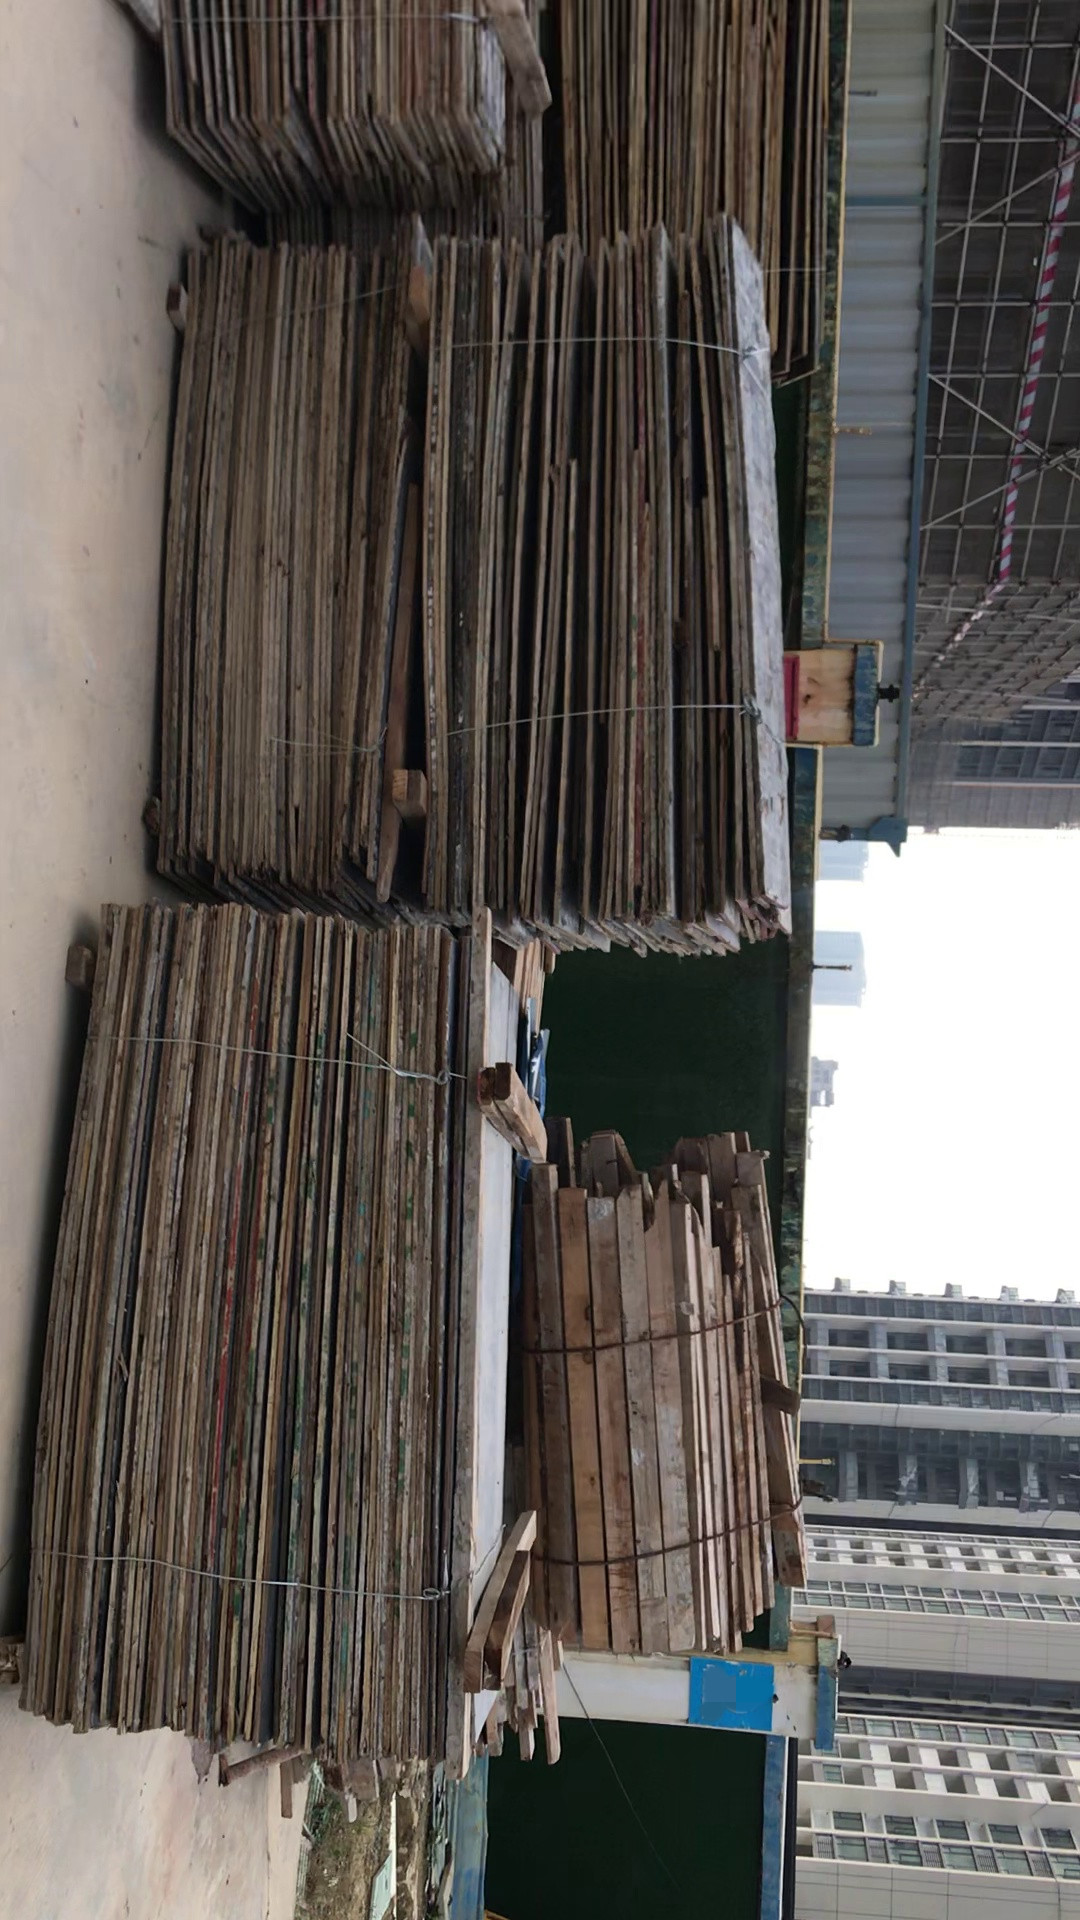board: (156, 227, 818, 938), (55, 890, 498, 1785), (127, 1, 522, 214), (550, 1, 812, 314)
wood: (512, 1125, 804, 1695)
